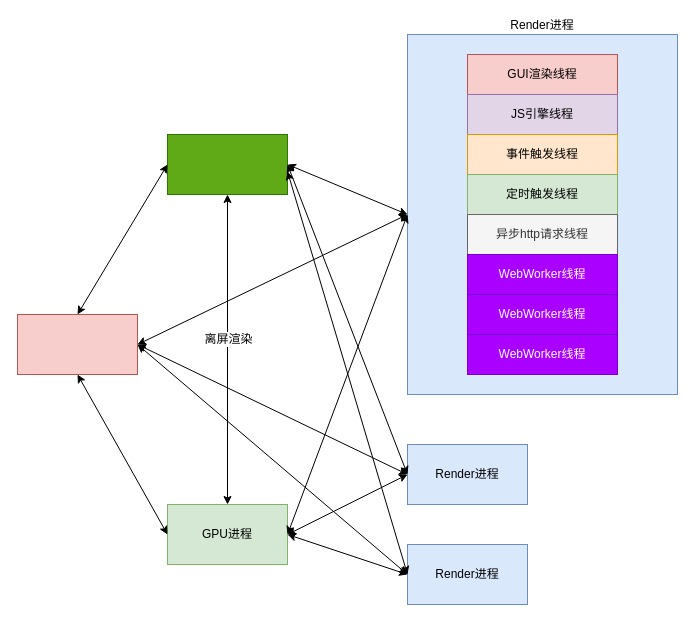
This 695x622 diagram has some shape labels left out. Here are the shapes that lost their labels. From the top down, the box of each, then its label:
(166, 134, 288, 194): sharedwoker进程
(16, 314, 138, 374): Browser进程
